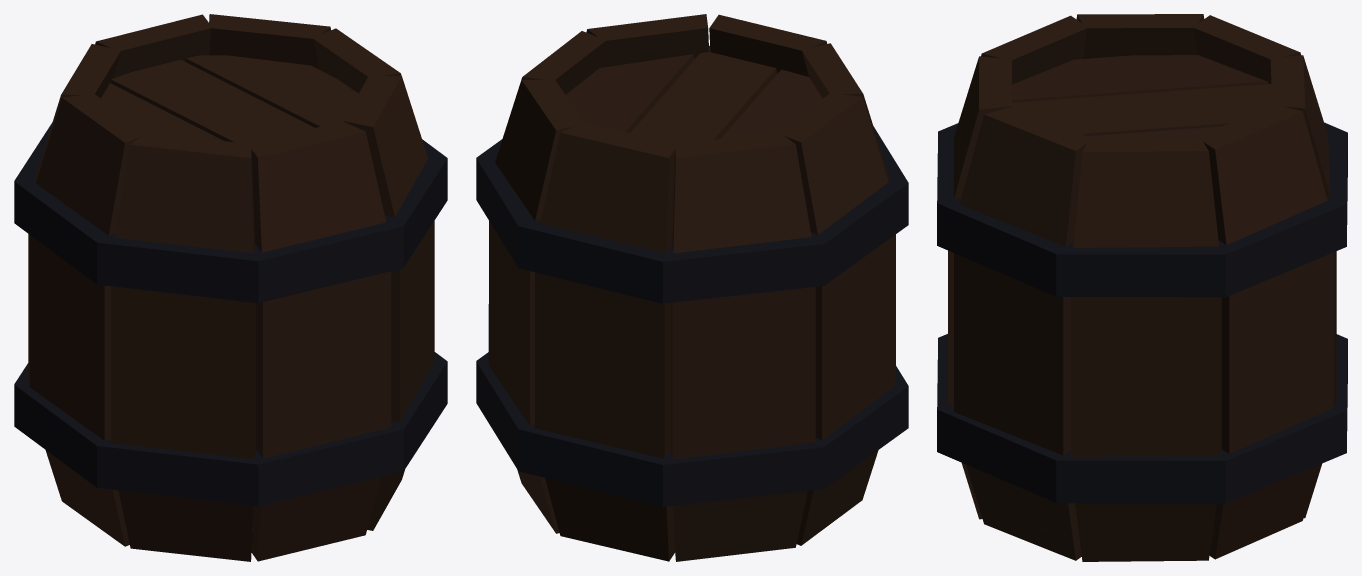
Rendered from barrel.obj.
3 views of the same model, side by side, from view 1: azimuth 30°, elevation 25°; view 2: azimuth 150°, elevation 25°; view 3: azimuth 270°, elevation 25° (orthographic).
Parts seen in each view (by area): view 1: Cube.020_Cube.033; view 2: Cube.020_Cube.033; view 3: Cube.020_Cube.033.
Boxes of the visible parts, bbox=[...] form: Cube.020_Cube.033: bbox=[14, 14, 447, 561]; Cube.020_Cube.033: bbox=[476, 14, 908, 561]; Cube.020_Cube.033: bbox=[937, 14, 1347, 561].
Bounding box in the file's own units: 1.58 × 1.74 × 1.58.
